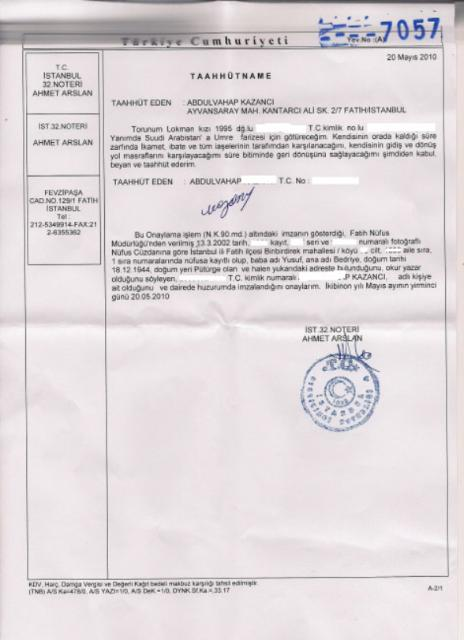stamp: (300, 351, 380, 433)
